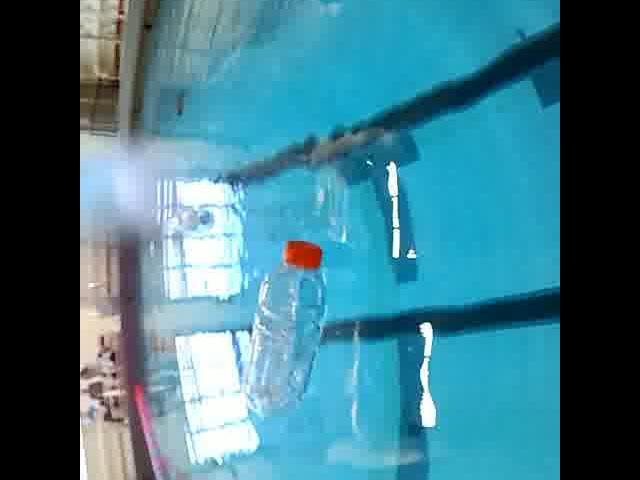Bottle: (236, 230, 334, 420)
